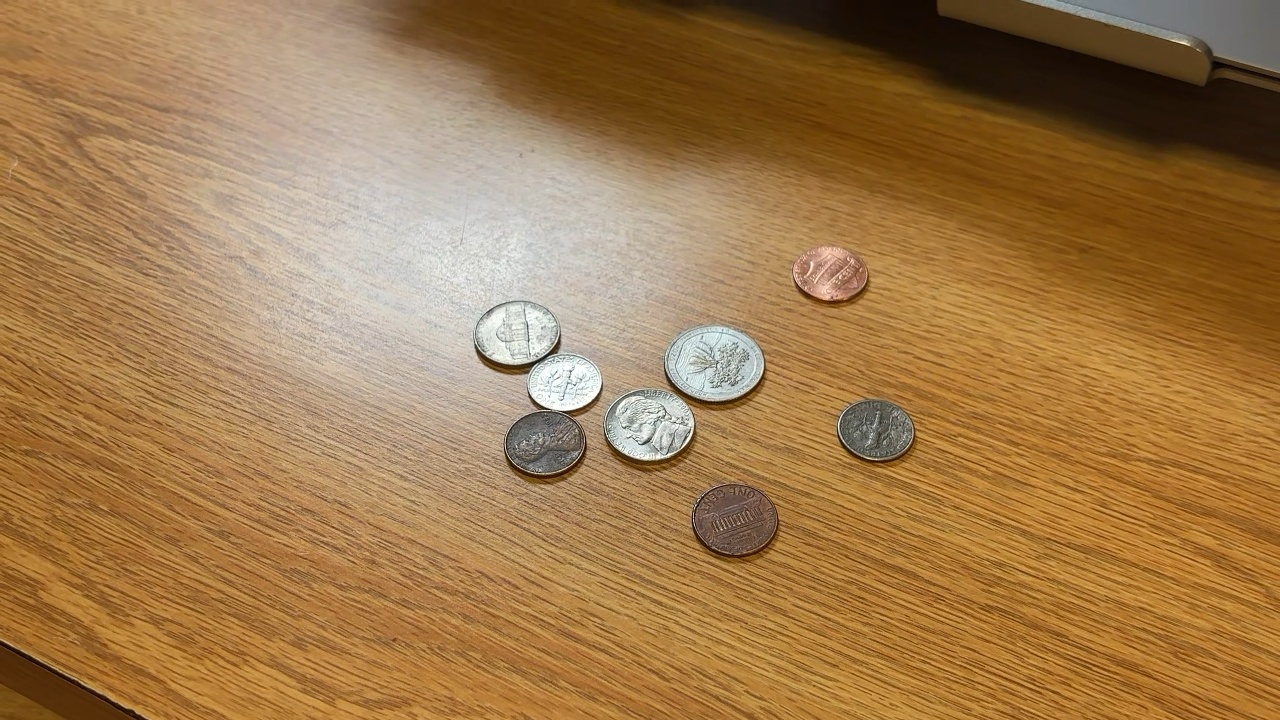dime: (836, 399, 918, 464), (526, 352, 603, 411)
nickel: (603, 389, 695, 461), (471, 301, 563, 368)
penny: (691, 480, 778, 561), (505, 410, 589, 477), (792, 245, 872, 308)
quarter: (663, 325, 767, 405)
